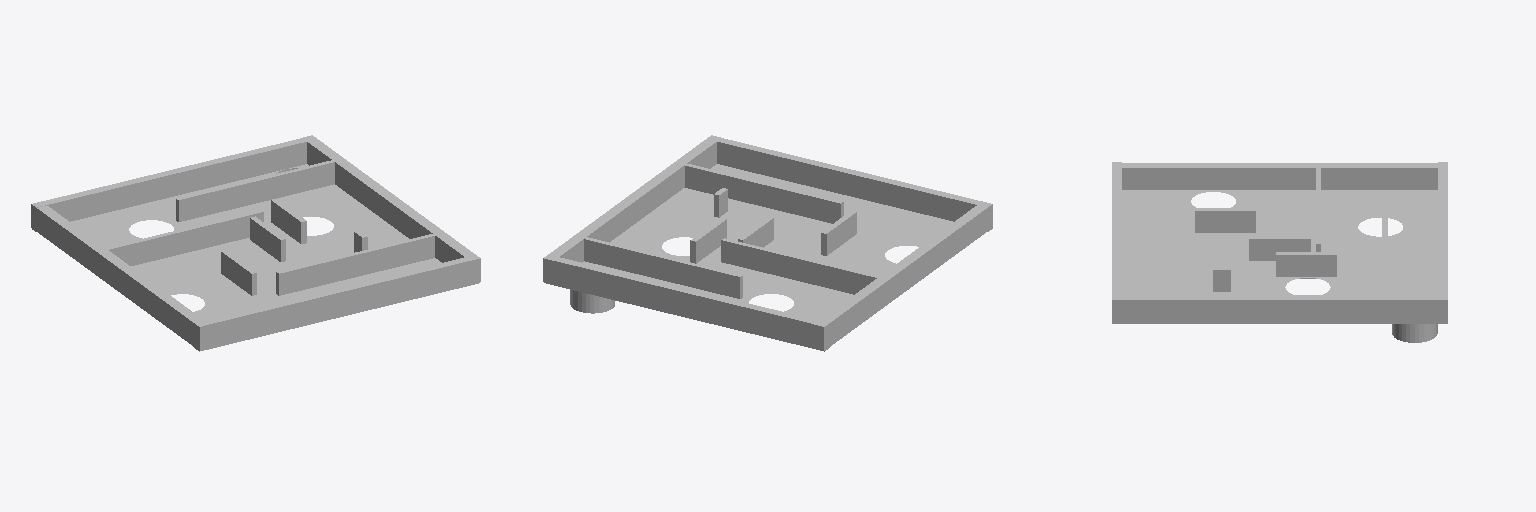
File: board7.obj
3 views of the same model, side by side, from view 1: azimuth 30°, elevation 25°; view 2: azimuth 150°, elevation 25°; view 3: azimuth 270°, elevation 25° (orthographic).
Visible parts, largest first — view 1: Cube, Plane, Cube.001, Cube.003, Cube.002, Cube.004, Cube.005, Cube.006; view 2: Cube, Plane, Cube.001, Cube.003, Cube.002, Cube.004, Cube.006, Cube.005; view 3: Plane, Cube, Cube.006, Cube.004, Cube.005.
Part boxes in pixels (x1,y1,x2,y2): Cube: (31,135,480,351); Plane: (71,164,441,320); Cube.001: (176,160,334,221); Cube.003: (276,234,434,295); Cube.002: (106,210,263,265); Cube.004: (221,250,256,295); Cube.005: (250,216,285,261); Cube.006: (271,199,306,243); Cube: (543,135,992,351); Plane: (570,164,952,319); Cube.001: (584,237,742,298); Cube.003: (685,164,843,223); Cube.002: (721,238,879,294); Cube.004: (821,210,856,255); Cube.006: (690,218,726,263); Cube.005: (738,216,773,247); Plane: (1122,190,1437,342); Cube: (1112,162,1447,323); Cube.006: (1276,252,1336,278); Cube.004: (1195,208,1255,232); Cube.005: (1249,236,1310,260).
Size of the model in its own units: 14.35 by 2.43 by 14.87.